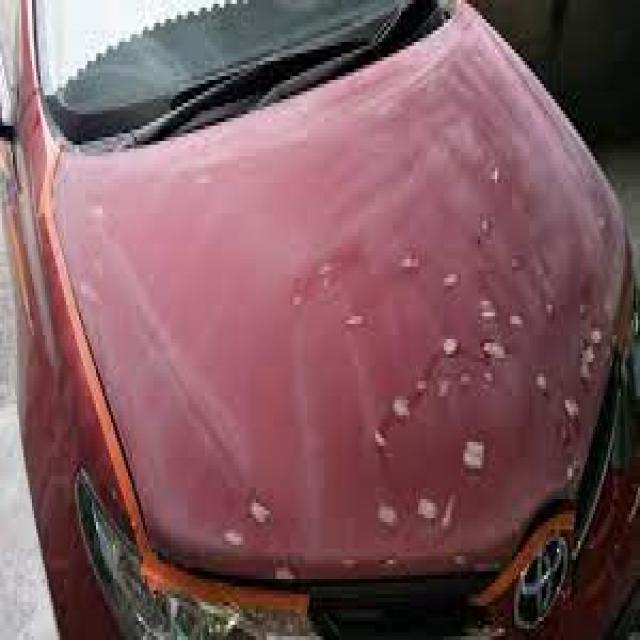paint-chip: (377, 154, 563, 362), (362, 366, 516, 559), (527, 305, 620, 506), (214, 479, 312, 594), (282, 242, 373, 350)
